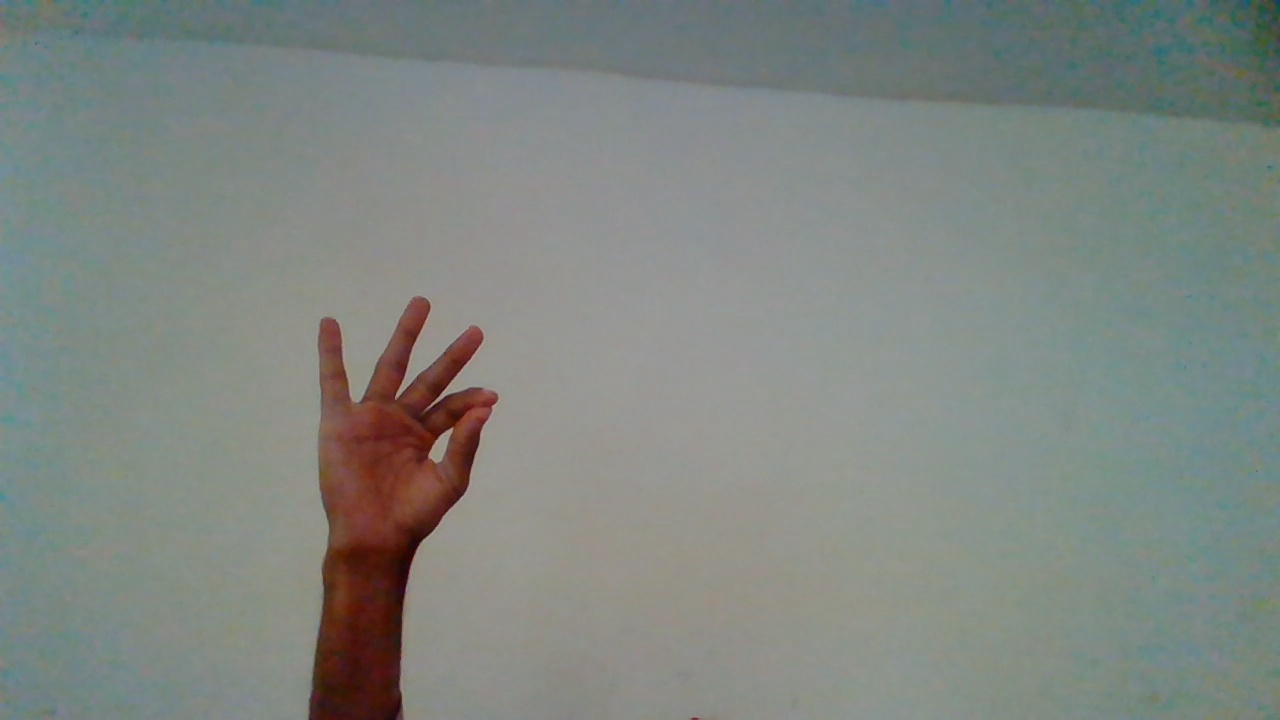le: (306, 296, 501, 703)
